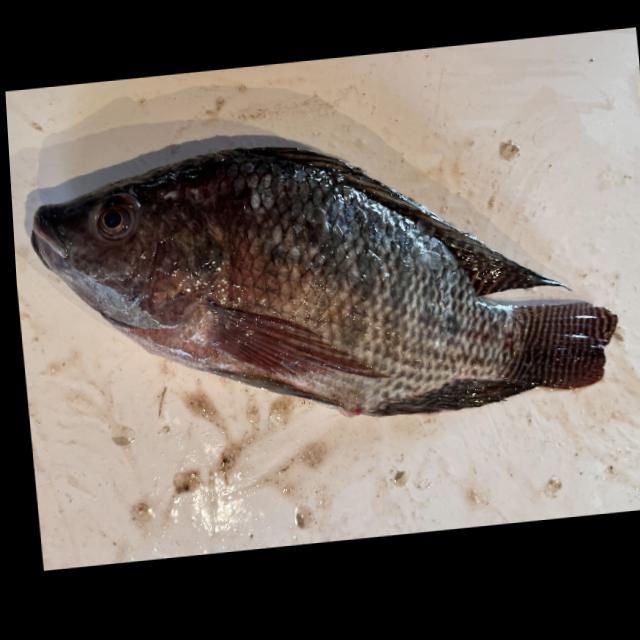Tilapia: (22, 111, 627, 456)
